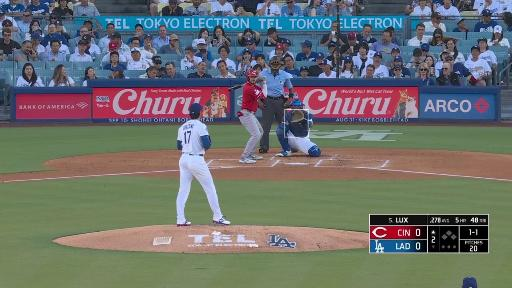pitcher: (176, 102, 233, 225)
